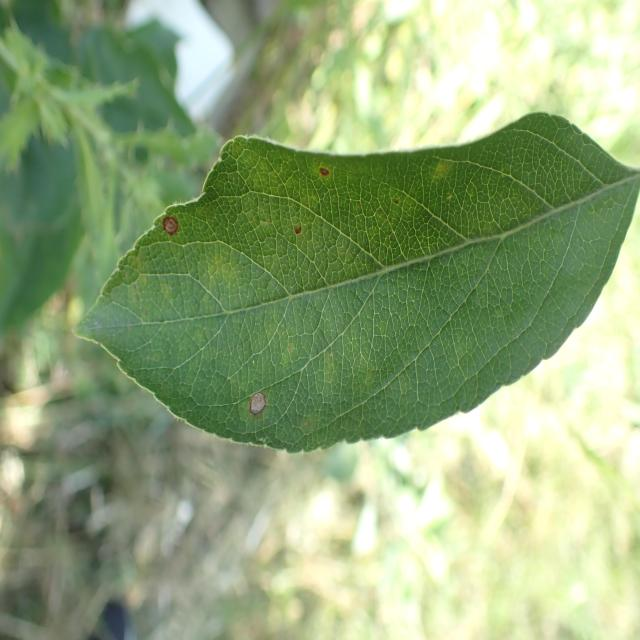frog-eye-leaf-spot: (71, 111, 640, 454)
